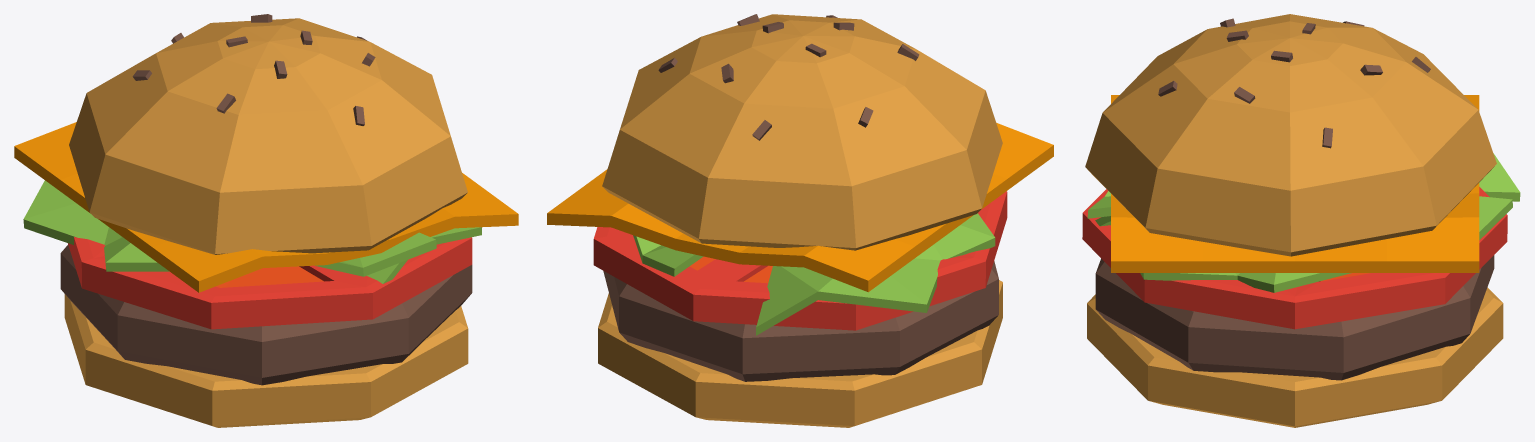
The model's file is Hamburger.gltf.
3 renders of one model, left to right at view 1: azimuth 30°, elevation 25°; view 2: azimuth 150°, elevation 25°; view 3: azimuth 270°, elevation 25°, orthographic.
Parts seen in each view (by area): view 1: Circle.003_Circle.004; view 2: Circle.003_Circle.004; view 3: Circle.003_Circle.004.
Part boxes in pixels (box(x1,y1,x2,y2)): Circle.003_Circle.004: box(14, 14, 518, 427); Circle.003_Circle.004: box(547, 14, 1053, 427); Circle.003_Circle.004: box(1082, 14, 1520, 427).
Size of the model in its own units: 12.36 by 10.03 by 12.73.
